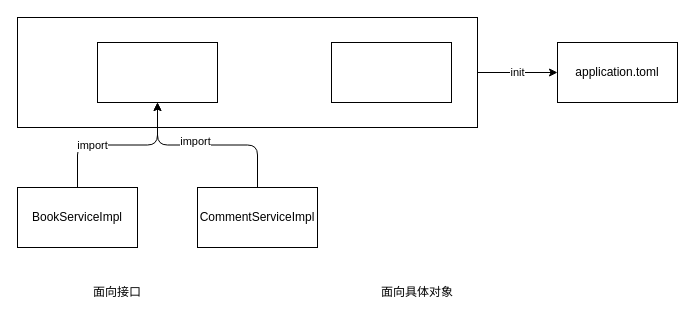
Image size: 695x325. Some labels were removed from this diagram. Each missing label, with the box of its shape:
Config: (330, 42, 452, 102)
Controllers: (96, 42, 218, 102)
